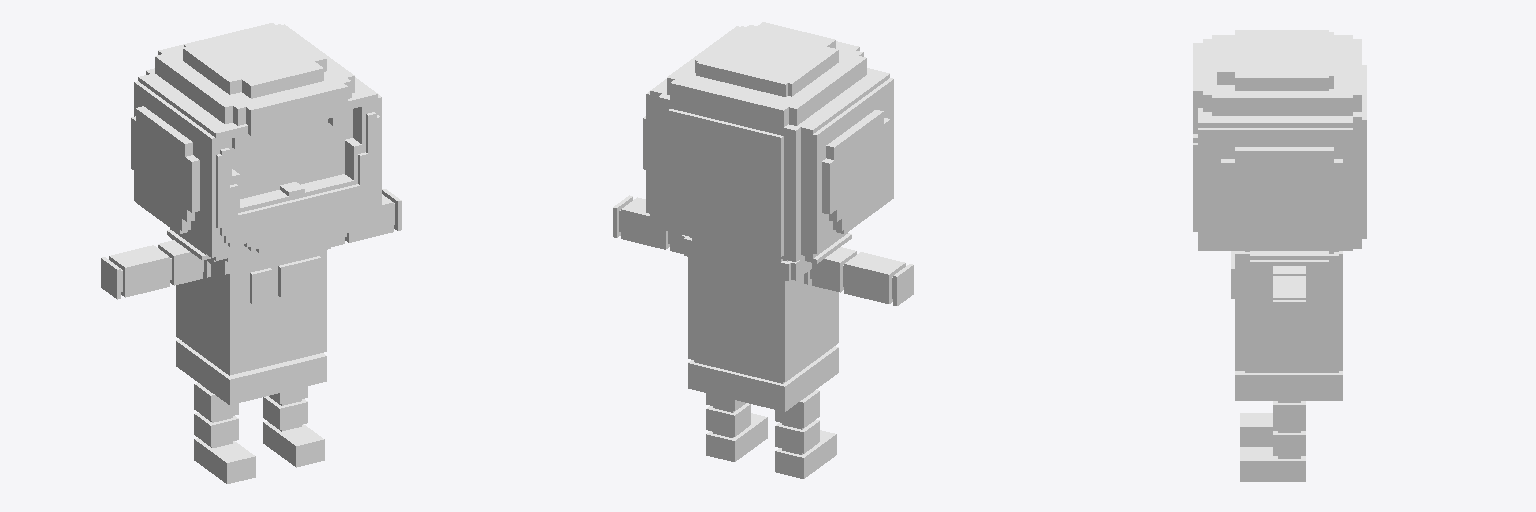
Rendered from ConTraje.obj.
3 renders of one model, left to right at view 1: azimuth 30°, elevation 25°; view 2: azimuth 150°, elevation 25°; view 3: azimuth 270°, elevation 25°, orthographic.
Visible parts, largest first — view 1: object 1; view 2: object 1; view 3: object 1.
Part boxes in pixels (x1,y1,x2,y2): object 1: (101,23,401,483); object 1: (613,22,913,478); object 1: (1193,30,1366,481).
Size of the model in its own units: 7 by 9.5 by 3.7.